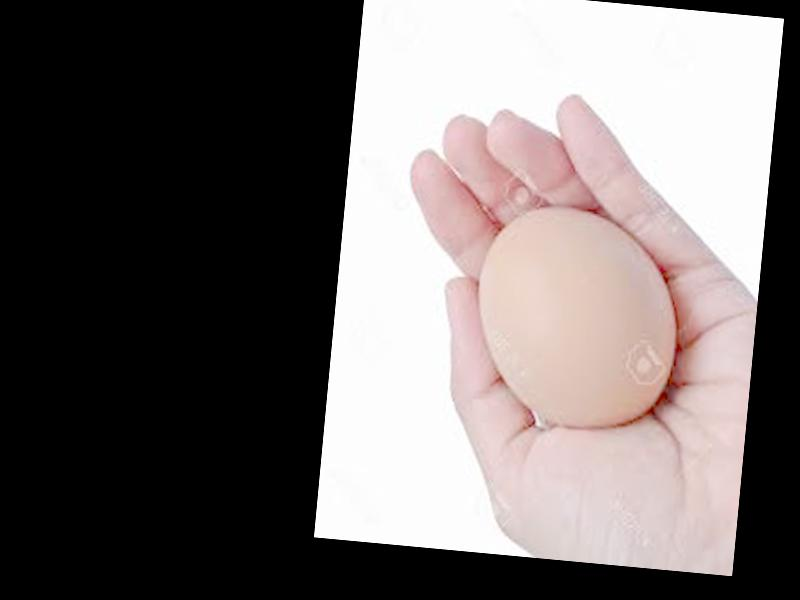Eggs: (467, 199, 684, 437)
